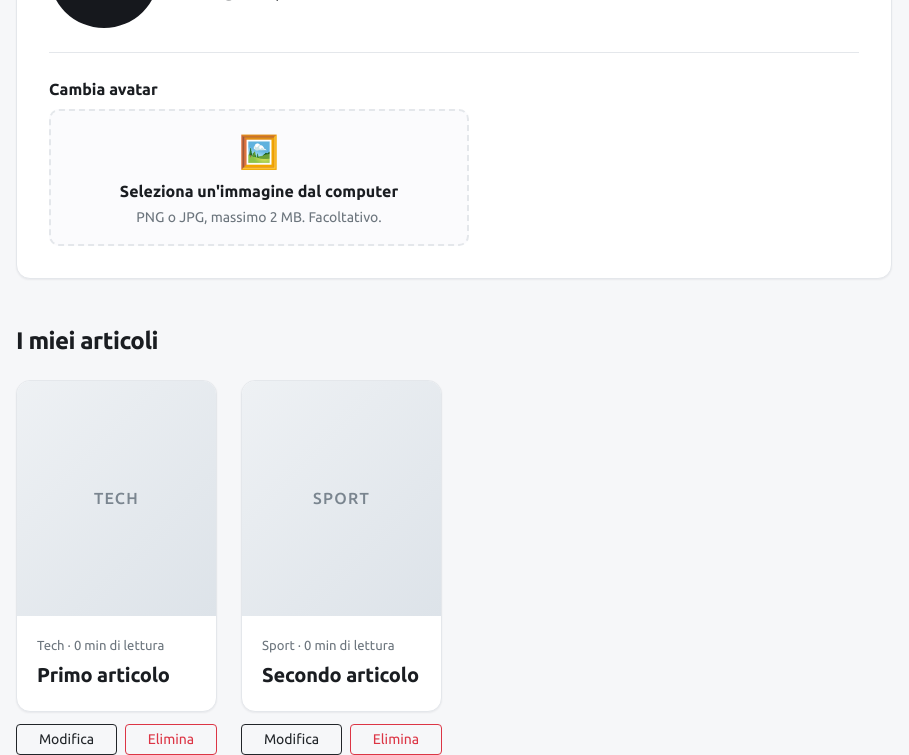
Test: Profile — gestione dei miei articoli › mostra un errore se la cancellazione fallisce
This screenshot has width=909, height=755.
(page scrolled)
Click the button "Elimina" below "Primo articolo". click: [171, 740]
box: [125,724,217,754]
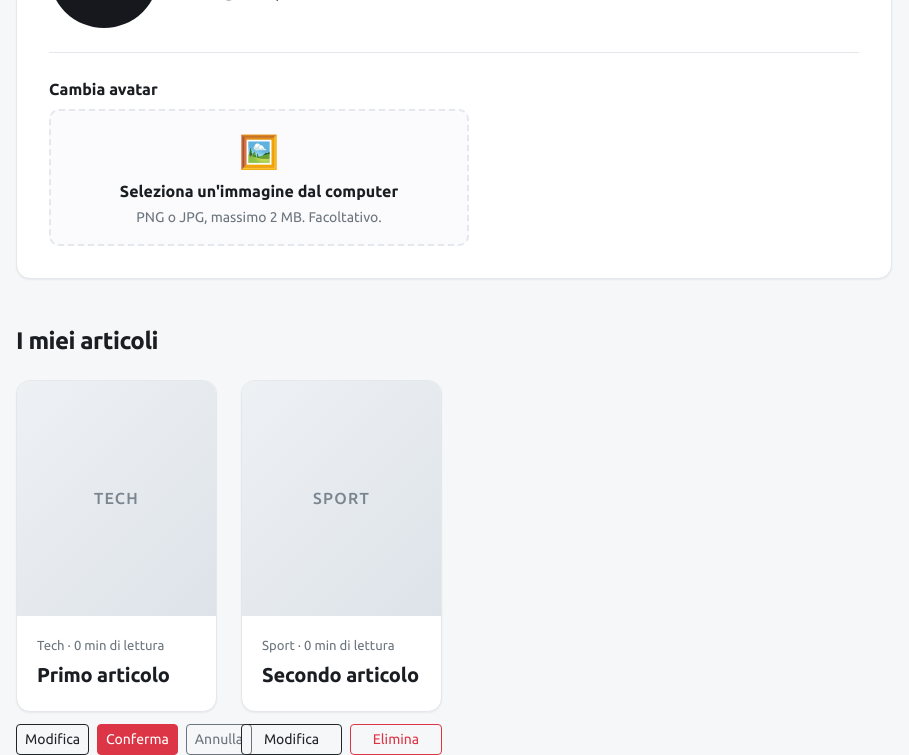
Click the button "Conferma". click: [138, 740]
box: [97,724,178,754]
(page scrolled)
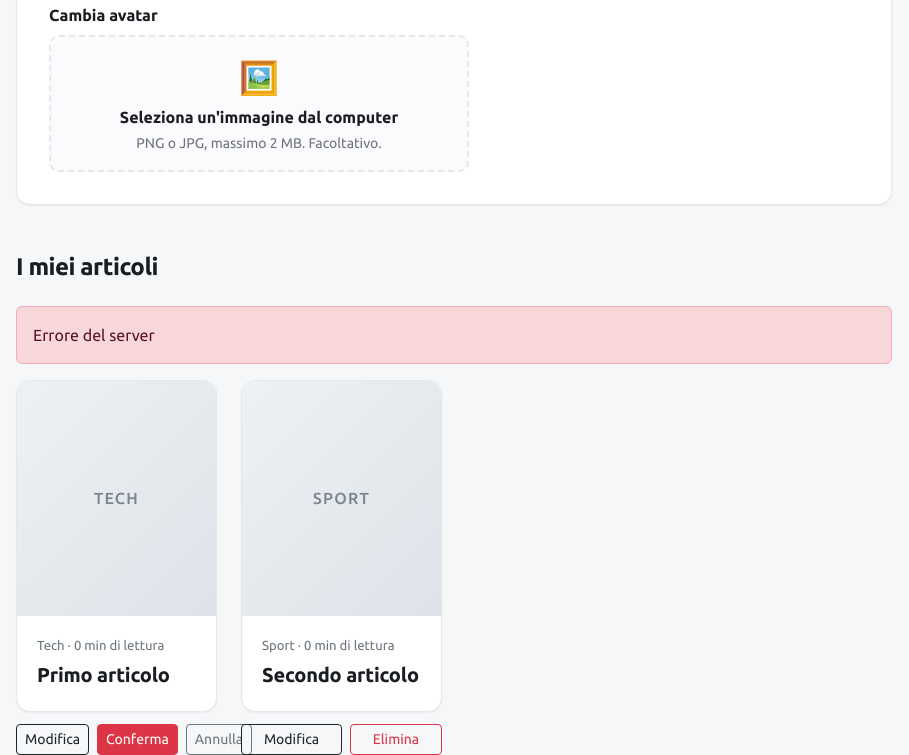
Check: the heading "Primo articolo" is shown, box [37,664,170,686]
Check: the text "Errore del server" is shown, box [16,306,892,364]
